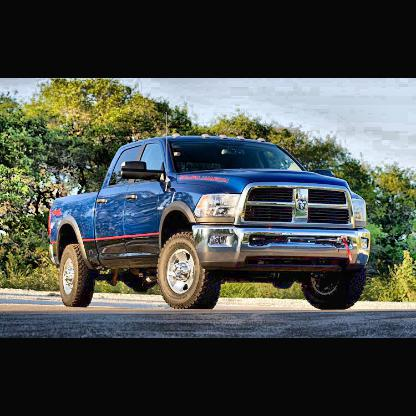Dodge Ram Pickup 3500 Crew Cab 2010: (49, 136, 371, 312)
